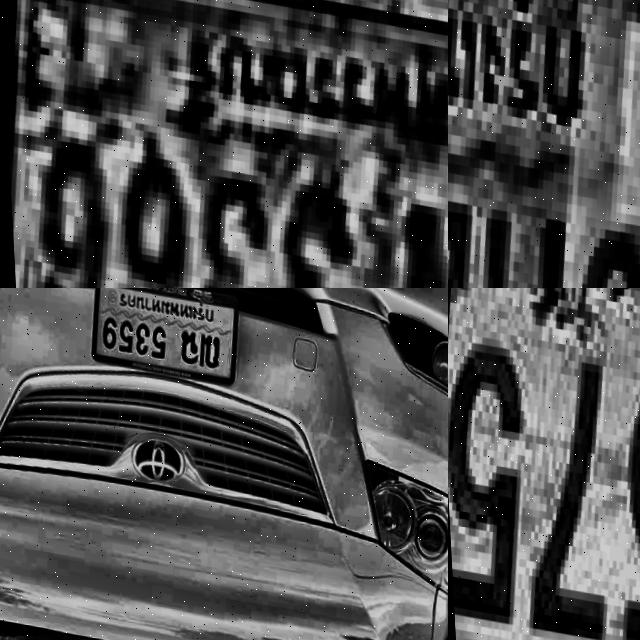license-plate: (0, 0, 448, 288), (448, 288, 640, 640), (448, 0, 640, 288), (82, 288, 241, 389)
